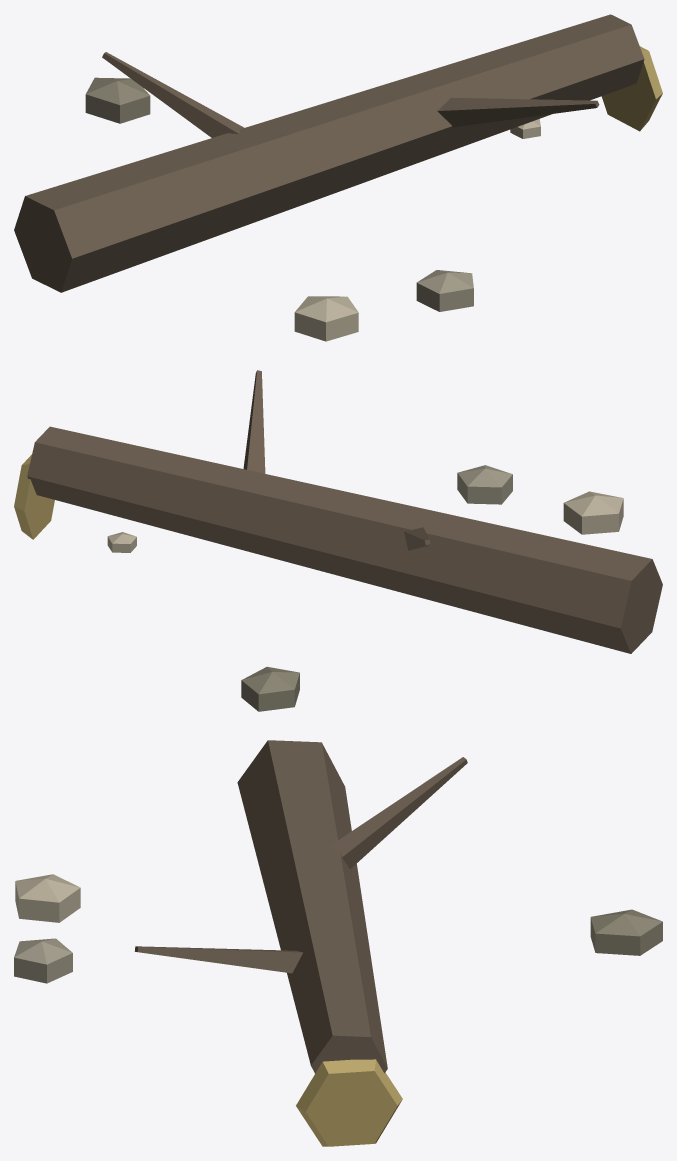
File: cover_driftwood.glb
3 renders of one model, top to bottom at view 1: azimuth 30°, elevation 25°; view 2: azimuth 150°, elevation 25°; view 3: azimuth 270°, elevation 25°, orthographic. The views are drawn at different scales.
Parts seen in each view (by area): view 1: cover_driftwood; view 2: cover_driftwood; view 3: cover_driftwood.
Boxes of the visible parts, x1,y1,x2,y2 form: cover_driftwood: (14,14,662,341); cover_driftwood: (14,370,662,711); cover_driftwood: (14,740,662,1146).
Size of the model in its own units: 1.97 by 0.4288 by 1.68.
